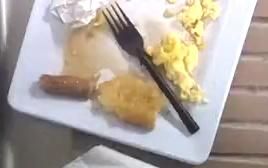hash: (98, 74, 162, 129)
sausage: (40, 74, 94, 98)
scrambled_eggs: (151, 0, 220, 103)
